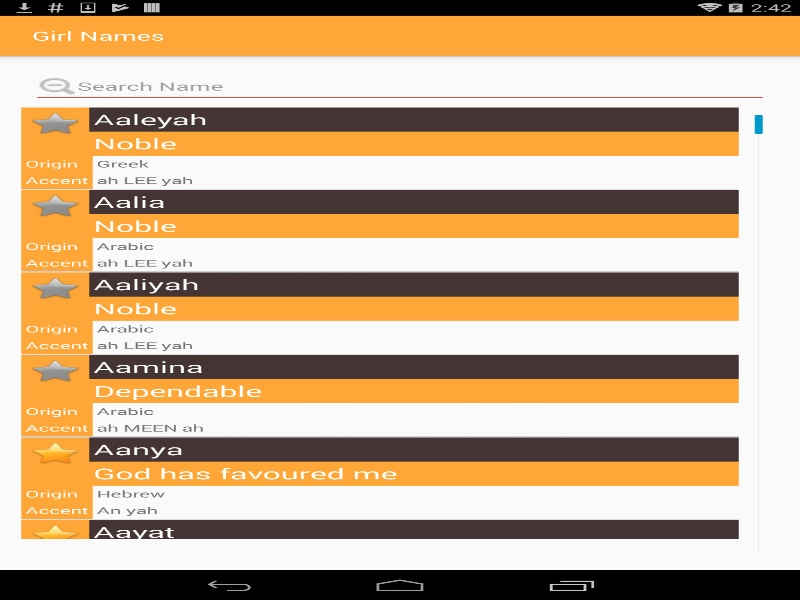Input: (32, 70, 768, 102)
